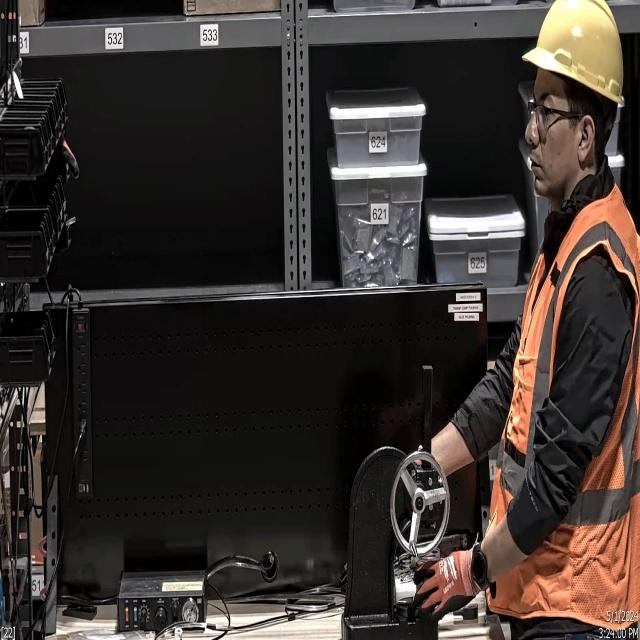gloves: (412, 546, 482, 634)
